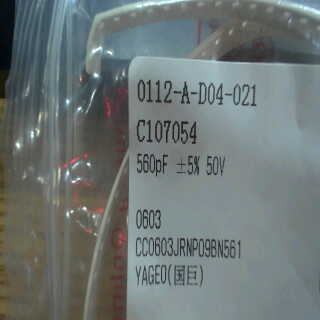560pF: (131, 151, 170, 180)
